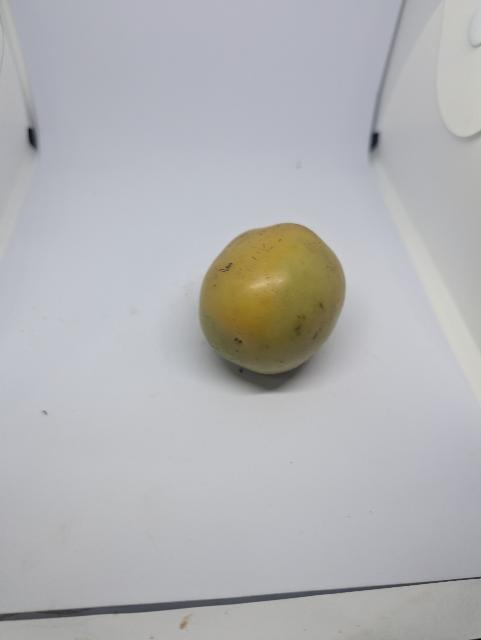breaker: (187, 217, 352, 384)
